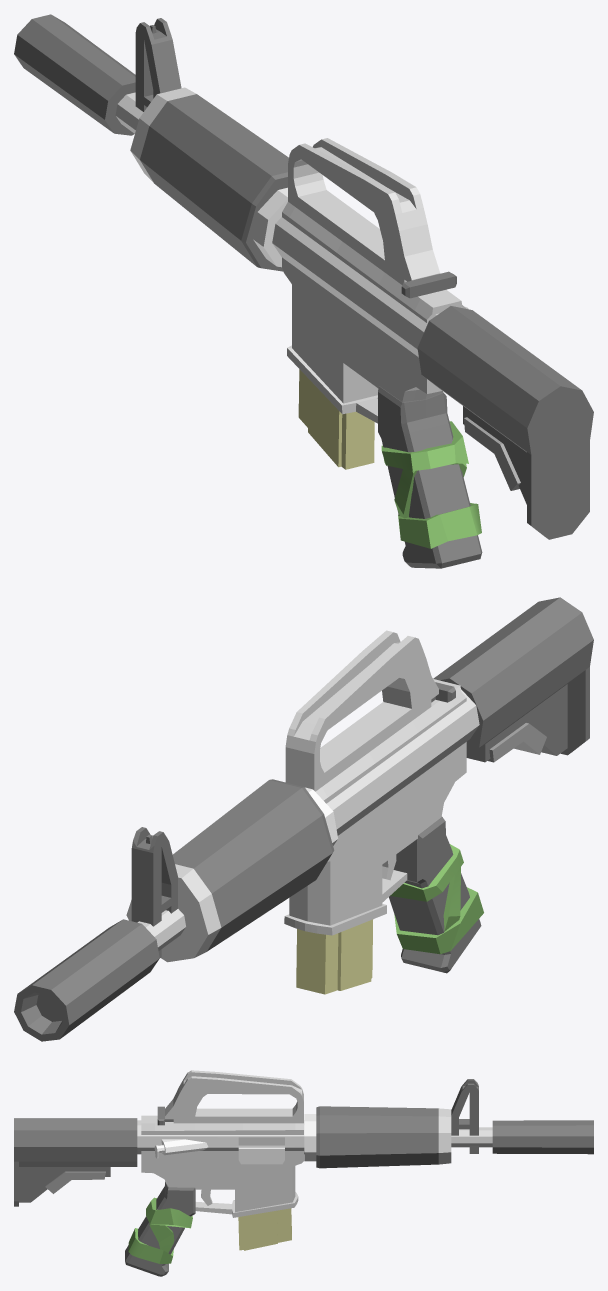
File: commando.glb
The picture shows the model from 3 angles, top to bottom: view 1: azimuth 30°, elevation 25°; view 2: azimuth 150°, elevation 25°; view 3: azimuth 270°, elevation 25°; orthographic projection. The views are drawn at different scales.
Visible parts, largest first — view 1: Receiver, Barrel.002, Handguard, Barrel, PistolGrip, Cylinder, Magazine, FrontSight, BarrelPart, Barrel.001, Slide; view 2: Receiver, Handguard, Barrel, Barrel.002, PistolGrip, Magazine, Cylinder, FrontSight, Barrel.001; view 3: Receiver, Handguard, Barrel.002, Barrel, PistolGrip, Cylinder, Magazine, FrontSight, EjectionPortCover, BarrelPart, Barrel.001, ForwardAssist.
Part boxes in pixels (bbox=[...]): Receiver: bbox=[282, 138, 465, 423]; Barrel.002: bbox=[417, 306, 593, 539]; Handguard: bbox=[130, 87, 288, 271]; Barrel: bbox=[14, 14, 439, 357]; PistolGrip: bbox=[378, 386, 482, 568]; Cylinder: bbox=[381, 421, 481, 548]; Magazine: bbox=[298, 369, 374, 469]; FrontSight: bbox=[135, 18, 181, 111]; BarrelPart: bbox=[253, 187, 287, 267]; Barrel.001: bbox=[464, 417, 520, 490]; Slide: bbox=[401, 271, 456, 298]; Receiver: bbox=[284, 630, 466, 935]; Handguard: bbox=[126, 779, 334, 962]; Barrel: bbox=[14, 689, 479, 1041]; Barrel.002: bbox=[433, 597, 593, 762]; PistolGrip: bbox=[389, 816, 481, 973]; Magazine: bbox=[296, 919, 373, 994]; Cylinder: bbox=[390, 844, 483, 954]; FrontSight: bbox=[131, 827, 177, 958]; Barrel.001: bbox=[488, 723, 546, 762]; Receiver: bbox=[141, 1070, 303, 1217]; Handguard: bbox=[316, 1106, 451, 1168]; Barrel.002: bbox=[14, 1118, 137, 1206]; Barrel: bbox=[137, 1120, 593, 1154]; PistolGrip: bbox=[125, 1181, 195, 1276]; Cylinder: bbox=[128, 1197, 192, 1263]; Magazine: bbox=[238, 1208, 291, 1250]; FrontSight: bbox=[451, 1079, 478, 1153]; EjectionPortCover: bbox=[238, 1147, 284, 1164]; BarrelPart: bbox=[304, 1114, 316, 1161]; Barrel.001: bbox=[45, 1171, 105, 1193]; ForwardAssist: bbox=[161, 1139, 208, 1155].
Size of the model in its own units: 47.14 by 169 by 451.
